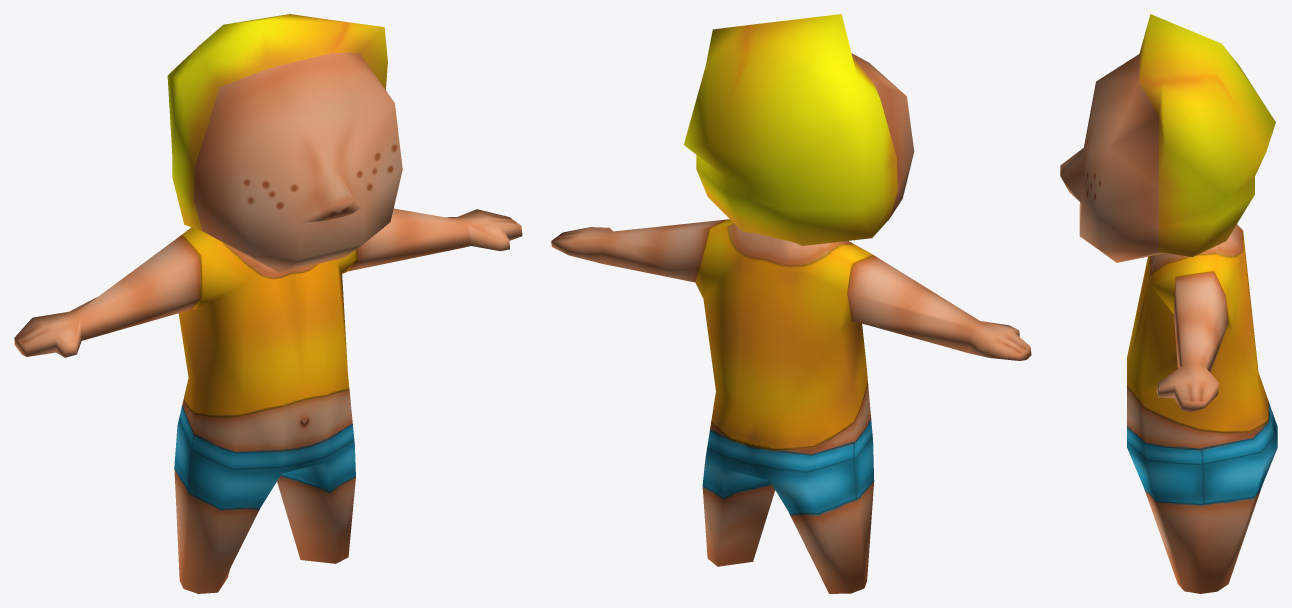
The model's file is HD_Family_Boy_1x1_Mesh_Tekstur_001.FBX.
3 views of the same model, side by side, from view 1: azimuth 30°, elevation 25°; view 2: azimuth 150°, elevation 25°; view 3: azimuth 270°, elevation 25° (orthographic). The views are drawn at different scales.
Parts seen in each view (by area): view 1: HD_Family_Boy_1x1_Mesh_; view 2: HD_Family_Boy_1x1_Mesh_; view 3: HD_Family_Boy_1x1_Mesh_.
Part boxes in pixels (x1,y1,x2,y2): HD_Family_Boy_1x1_Mesh_: (14,14,522,593); HD_Family_Boy_1x1_Mesh_: (551,14,1031,593); HD_Family_Boy_1x1_Mesh_: (1060,14,1277,593).
Bounding box in the file's own units: 174 × 193 × 71.81.
Materials: 1 (1 with a texture image).
